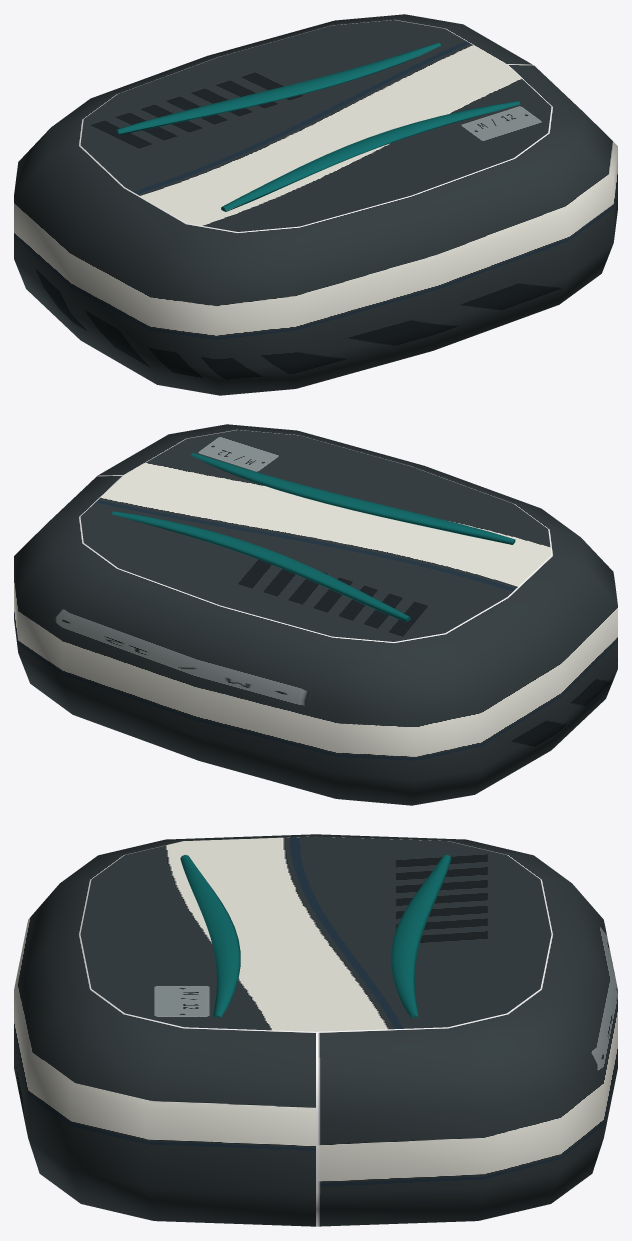
File: MotorCowl_12_R_碧線・剪断.glb
3 views of the same model, one above another, from view 1: azimuth 30°, elevation 25°; view 2: azimuth 150°, elevation 25°; view 3: azimuth 270°, elevation 25° (orthographic). The views are drawn at different scales.
Visible parts, largest first — view 1: MotorCowl_12_R; view 2: MotorCowl_12_R; view 3: MotorCowl_12_R.
Boxes of the visible parts, box(x1,y1,x2,y2) form: MotorCowl_12_R: box(14, 14, 617, 395); MotorCowl_12_R: box(14, 424, 617, 805); MotorCowl_12_R: box(14, 834, 617, 1226).
Bounding box in the file's own units: 0.332 × 0.1188 × 0.286.
Materials: 1 (1 with a texture image).
